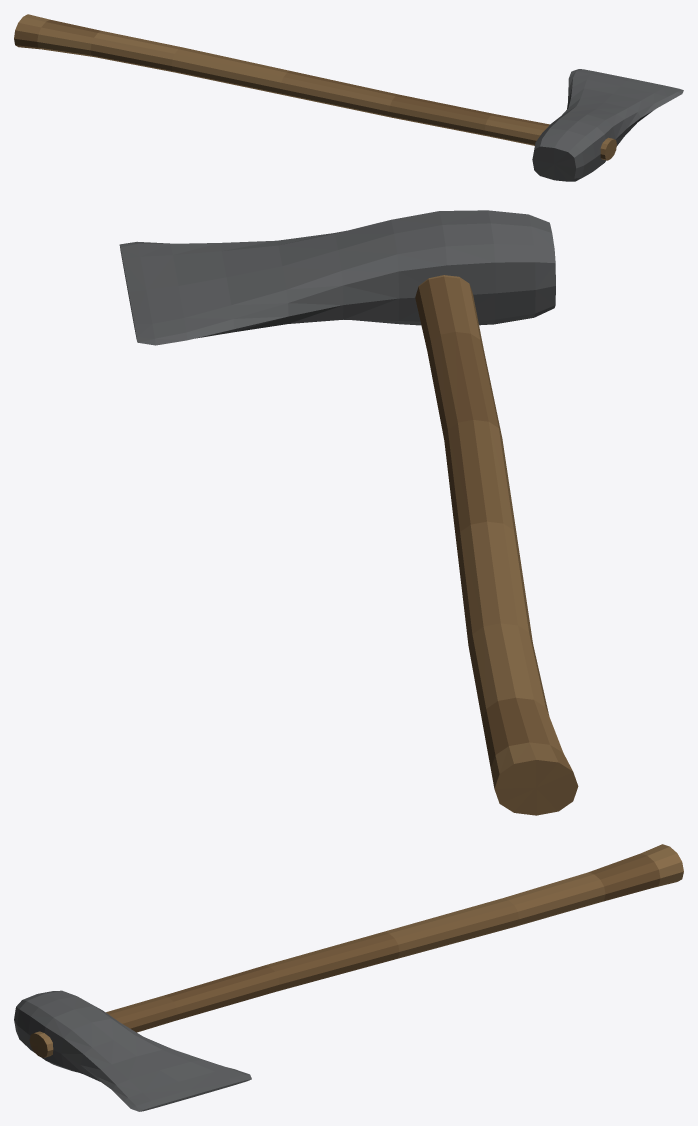
Rendered from axe-ground.glb.
The picture shows the model from 3 angles, top to bottom: view 1: azimuth 30°, elevation 25°; view 2: azimuth 150°, elevation 25°; view 3: azimuth 270°, elevation 25°; orthographic projection. The views are drawn at different scales.
Visible parts, largest first — view 1: axe-ground; view 2: axe-ground; view 3: axe-ground.
Boxes of the visible parts, bbox=[...] form: axe-ground: bbox=[14, 14, 683, 181]; axe-ground: bbox=[119, 210, 578, 815]; axe-ground: bbox=[14, 844, 683, 1111].
Size of the model in its own units: 0.6411 by 0.06 by 0.7051.
